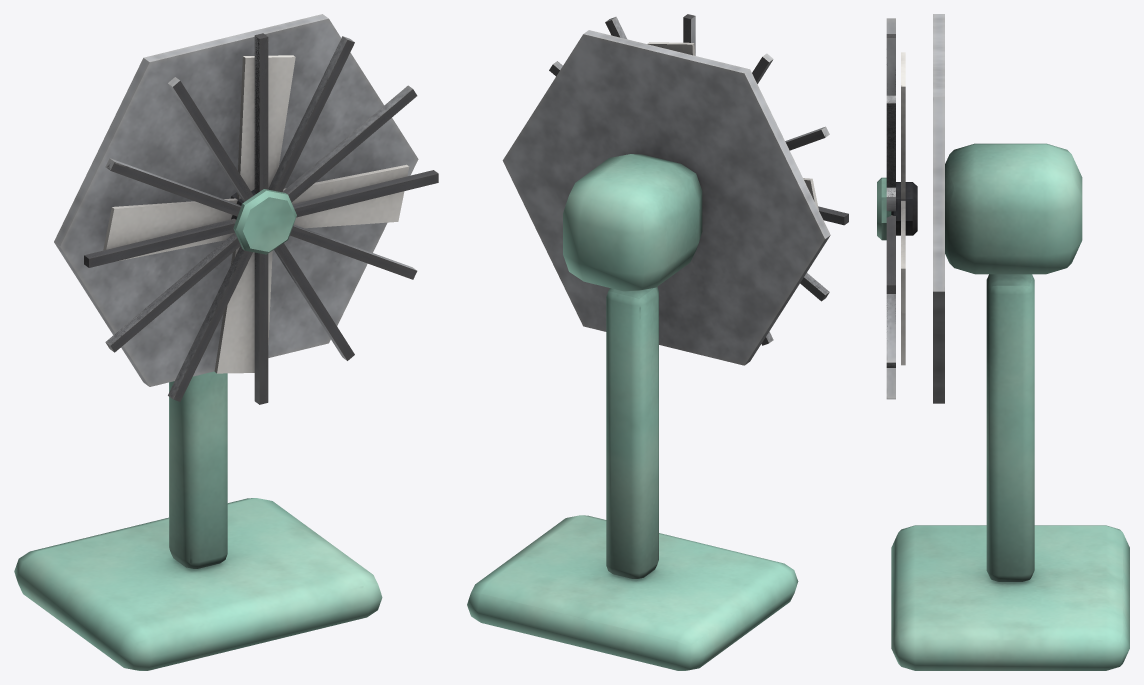
The model's file is table_fan.fbx.
3 renders of one model, left to right at view 1: azimuth 30°, elevation 25°; view 2: azimuth 150°, elevation 25°; view 3: azimuth 270°, elevation 25°, orthographic. The views are drawn at different scales.
Visible parts, largest first — view 1: Body, Spin; view 2: Body, Spin; view 3: Body, Spin.
Boxes of the visible parts, bbox=[...] form: Body: bbox=[14, 14, 438, 670]; Spin: bbox=[103, 55, 409, 373]; Body: bbox=[467, 14, 848, 670]; Spin: bbox=[647, 42, 818, 210]; Body: bbox=[877, 14, 1129, 670]; Spin: bbox=[891, 52, 917, 365].
Bounding box in the file's own units: 1.64 × 2.7 × 1.06.
Materials: 1 (1 with a texture image).
